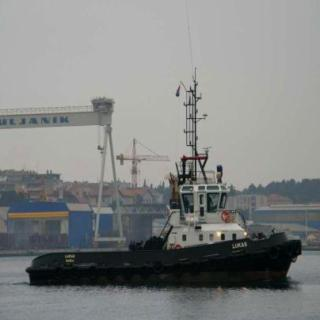Tug Boat: (11, 122, 286, 276)
